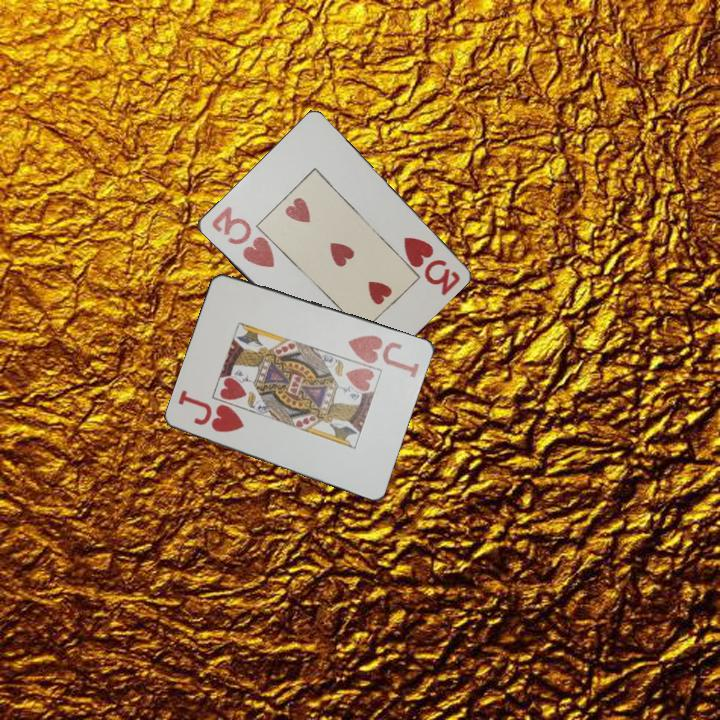3h: (207, 202, 278, 271), (399, 233, 463, 297)
Jh: (344, 331, 423, 380), (175, 389, 248, 435)
